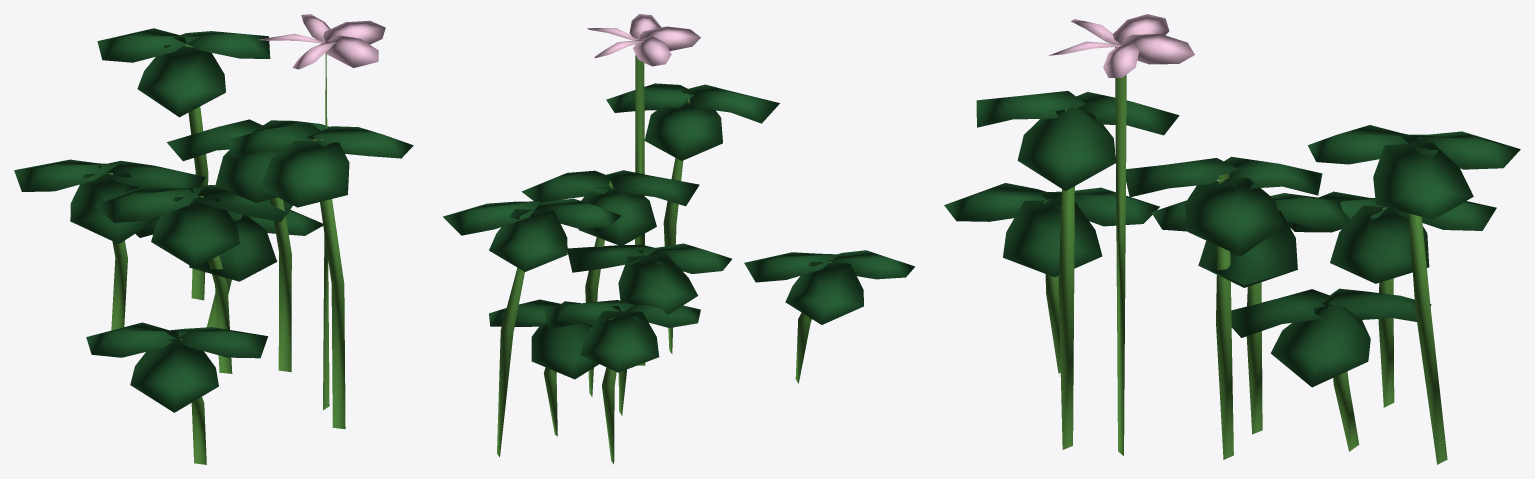
The model's file is canopy_gc_oxalis_a_lod1.glb.
3 views of the same model, side by side, from view 1: azimuth 30°, elevation 25°; view 2: azimuth 150°, elevation 25°; view 3: azimuth 270°, elevation 25° (orthographic). The views are drawn at different scales.
Parts seen in each view (by area): view 1: canopy_gc_oxalis_a.001; view 2: canopy_gc_oxalis_a.001; view 3: canopy_gc_oxalis_a.001.
Boxes of the visible parts, left/top/right/bottom form: canopy_gc_oxalis_a.001: left=14, top=14, right=413, bottom=464; canopy_gc_oxalis_a.001: left=443, top=14, right=915, bottom=464; canopy_gc_oxalis_a.001: left=944, top=14, right=1520, bottom=464.
Bounding box in the file's own units: 1.44 × 1.55 × 1.93.
